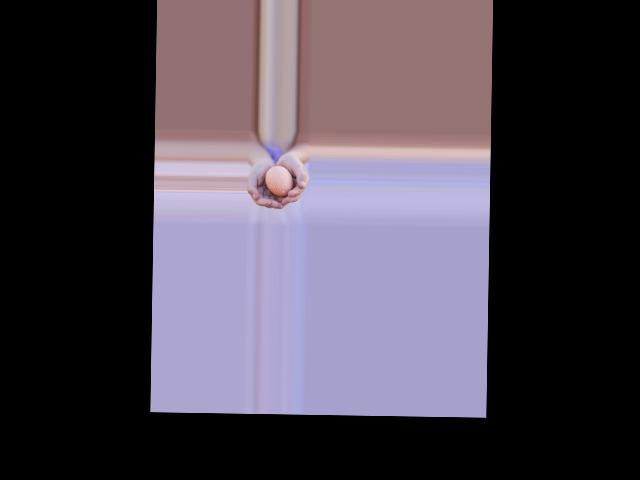egg: (264, 165, 292, 196)
